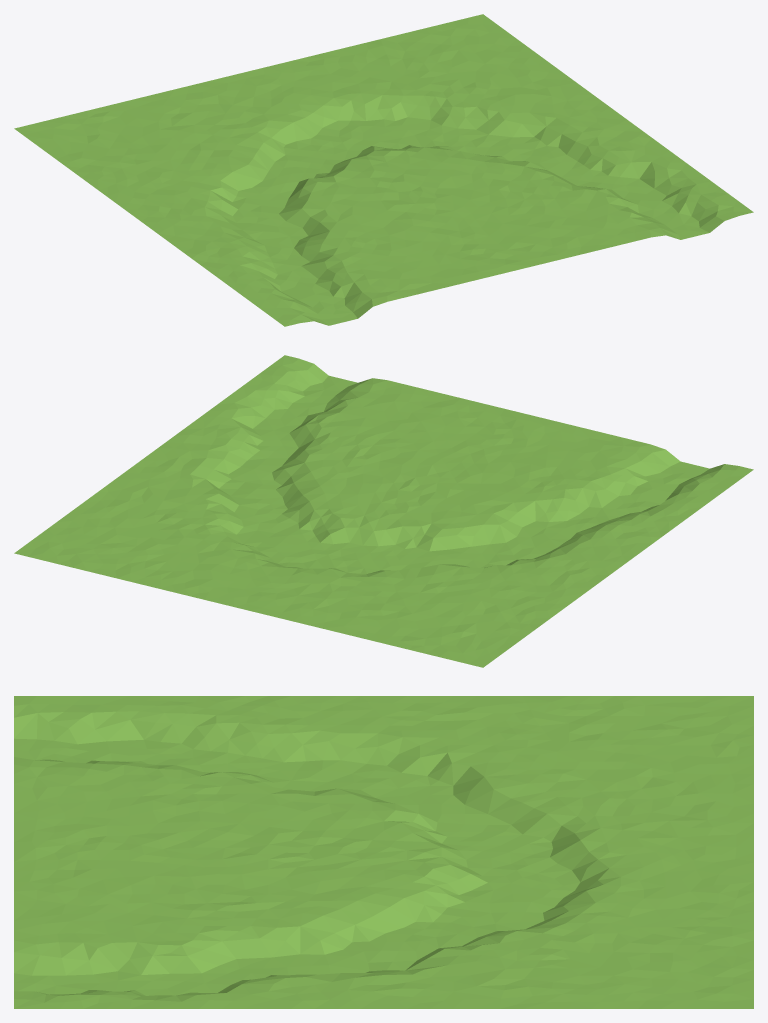
The model's file is MT_River_L_d_01_LOD.fbx.
3 views of the same model, one above another, from view 1: azimuth 30°, elevation 25°; view 2: azimuth 150°, elevation 25°; view 3: azimuth 270°, elevation 25° (orthographic). The views are drawn at different scales.
Parts seen in each view (by area): view 1: MT_River_L_d_01_LOD0; view 2: MT_River_L_d_01_LOD0; view 3: MT_River_L_d_01_LOD0.
Part boxes in pixels (box(x1,y1,x2,y2)): MT_River_L_d_01_LOD0: box(14, 14, 753, 326); MT_River_L_d_01_LOD0: box(14, 355, 753, 667); MT_River_L_d_01_LOD0: box(14, 696, 753, 1008).
Size of what is drawn, in the model's own units: 10000 by 226 by 10000.
